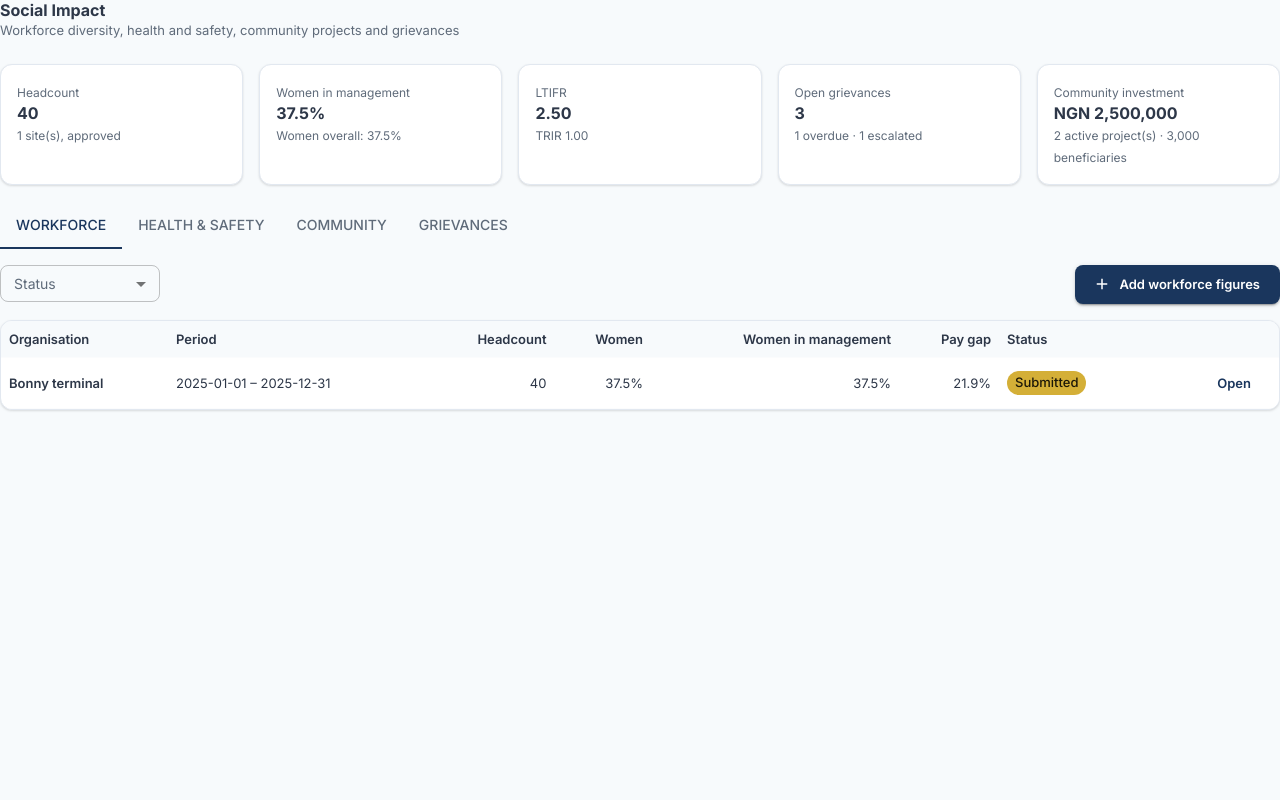
Test: Social Impact page › shows the year at a glance and workforce figures, with segregation of duties on approval and small groups withheld
This screenshot has width=1280, height=800.
Expected: the heading "NGN 2,500,000" is shown, x1=1054 y1=103 x2=1178 y2=123
Expected: the heading "2.50" is shown, x1=535 y1=103 x2=572 y2=123
Click the button with aria-label "Open Bonny terminal 2025-12-31" at (1234, 383), box x1=1197 y1=364 x2=1271 y2=402
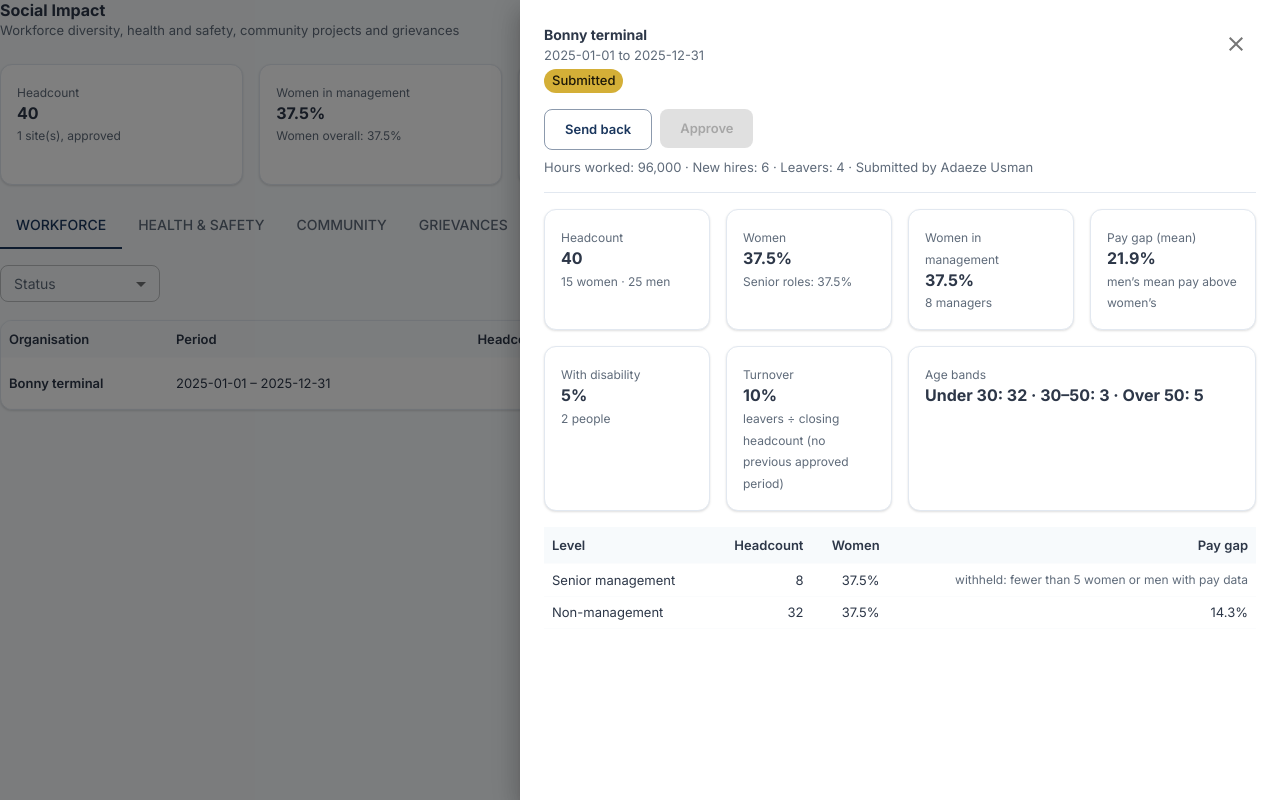
Expected: the element named "Approve: You submitted these figures, so someone else must approve them." is shown, x1=660 y1=109 x2=754 y2=150
Expected: the button "Send back" is enabled, x1=544 y1=109 x2=652 y2=150
Expected: the text "withheld: fewer than 5 women or men with pay data" is shown, x1=955 y1=572 x2=1248 y2=587
